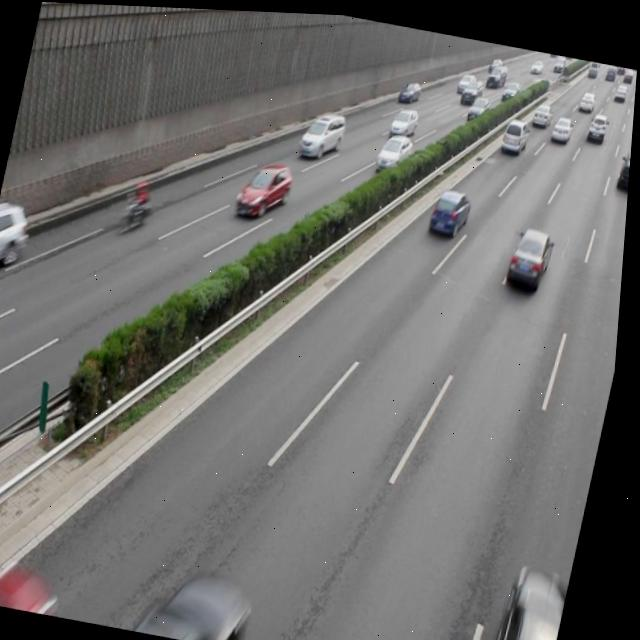car: (144, 554, 268, 640), (498, 557, 580, 640), (0, 553, 74, 616), (237, 155, 296, 219), (0, 200, 39, 282), (507, 220, 555, 286), (299, 104, 350, 163), (429, 181, 476, 236), (376, 126, 417, 173), (390, 100, 421, 136), (615, 142, 633, 186)
truck: (499, 111, 532, 152)
